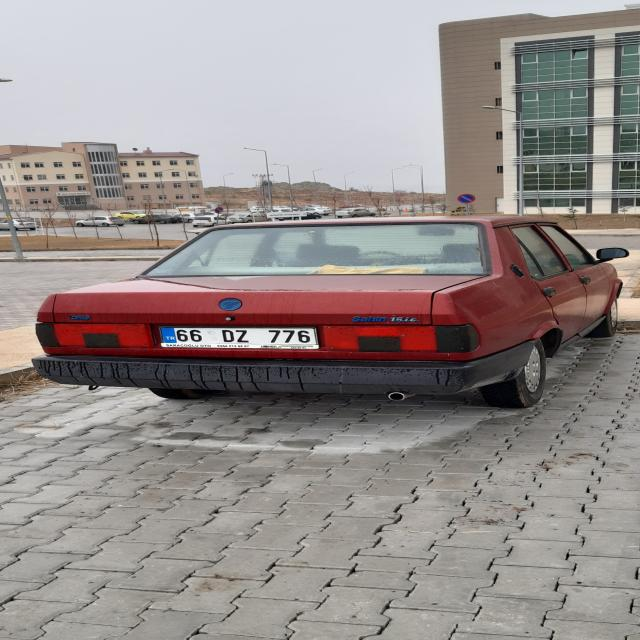plate: (158, 327, 318, 345)
